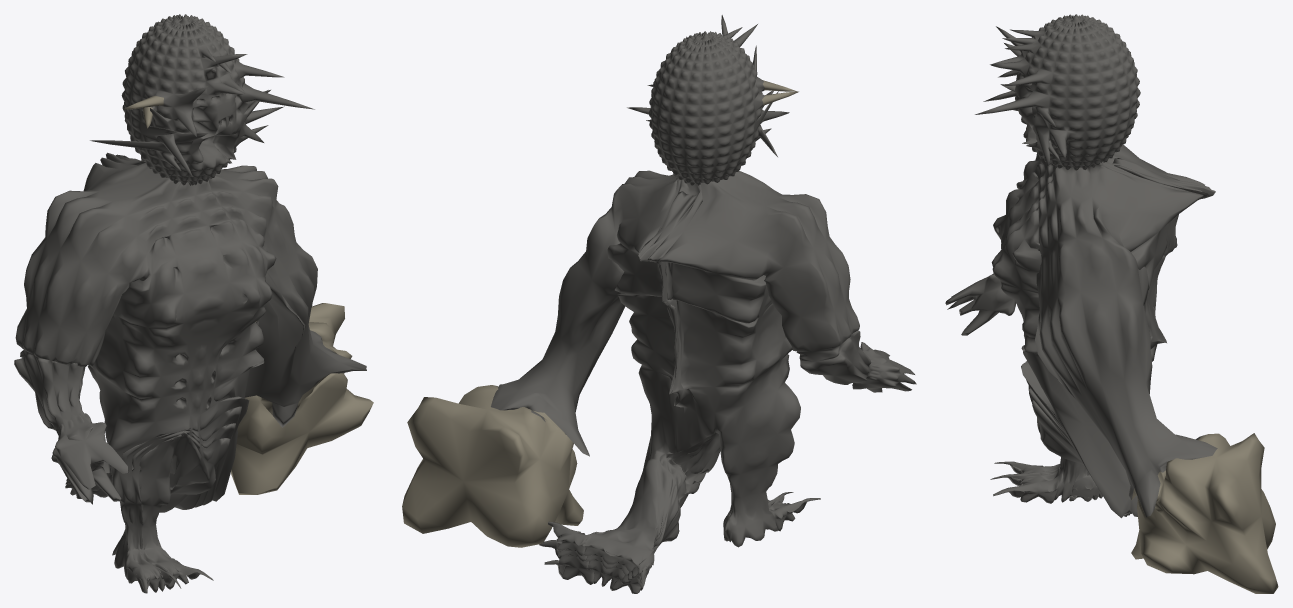
Rendered from Brute.fbx.
3 renders of one model, left to right at view 1: azimuth 30°, elevation 25°; view 2: azimuth 150°, elevation 25°; view 3: azimuth 270°, elevation 25°, orthographic. The views are drawn at different scales.
Visible parts, largest first — view 1: pCube1, pSphere1; view 2: pCube1, pSphere1; view 3: pCube1, pSphere1.
Part boxes in pixels (x1=…): pCube1: x1=14, y1=152, x2=373, y2=593; pSphere1: x1=90, y1=14, x2=314, y2=185; pCube1: x1=402, y1=170, x2=916, y2=593; pSphere1: x1=627, y1=15, x2=798, y2=185; pCube1: x1=945, y1=144, x2=1278, y2=593; pSphere1: x1=975, y1=14, x2=1140, y2=170.
Bounding box in the file's own units: 3.66 × 4.61 × 2.76.
